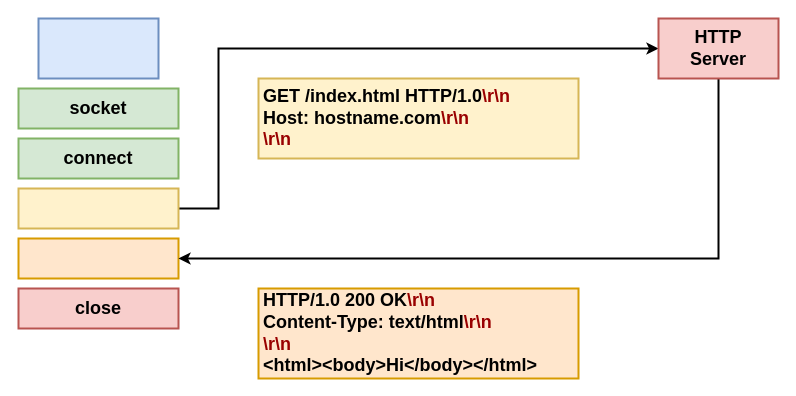
The diagram is 796 pixels wide and 396 high, and some of its shapes have lost their labels. The box of each missing label's shape, as (x1, y1, x2, y2) in pixels:
HTTP Client: (37, 17, 159, 79)
recv: (17, 237, 179, 279)
send: (17, 187, 179, 229)
